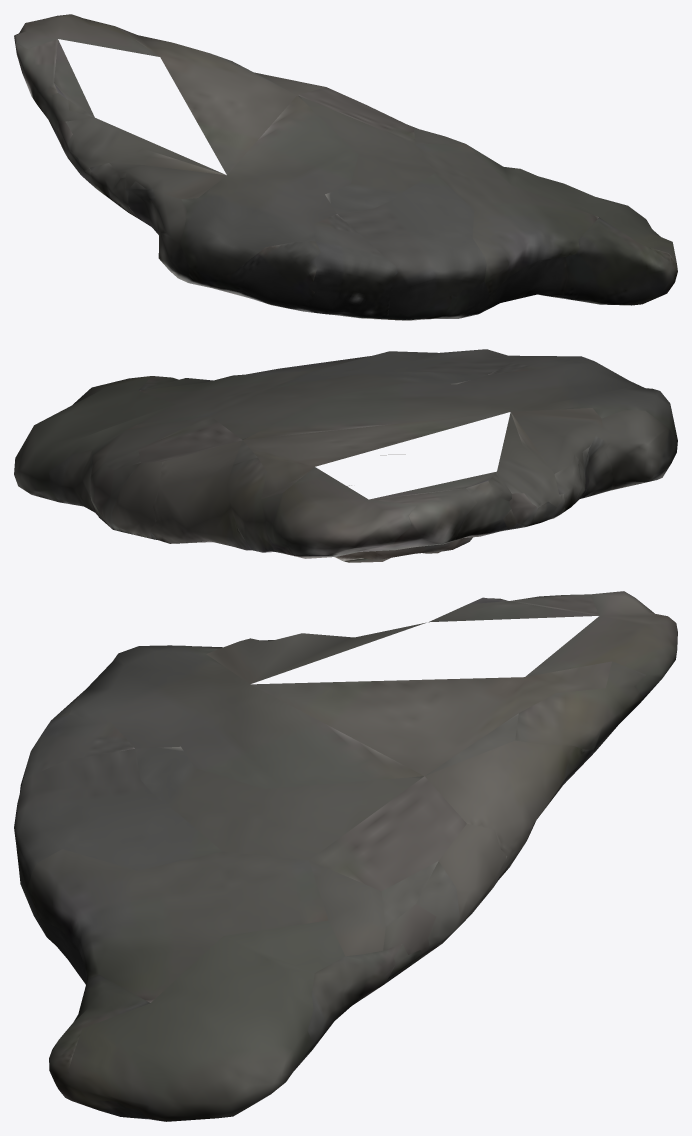
File: hall.glb
The picture shows the model from 3 angles, top to bottom: view 1: azimuth 30°, elevation 25°; view 2: azimuth 150°, elevation 25°; view 3: azimuth 270°, elevation 25°; orthographic projection. The views are drawn at different scales.
Bounding box in the file's own units: 0.5248 × 0.2146 × 0.4934.
Materials: 1 (1 with a texture image).
